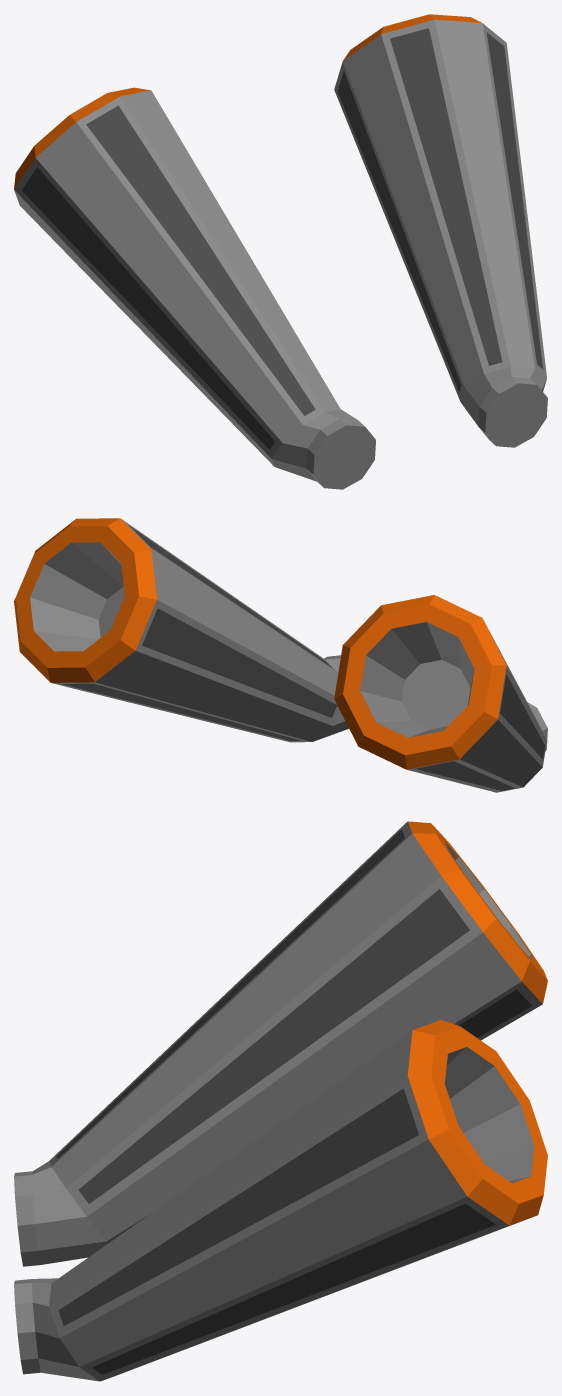
File: Catalysts3.fbx
3 views of the same model, one above another, from view 1: azimuth 30°, elevation 25°; view 2: azimuth 150°, elevation 25°; view 3: azimuth 270°, elevation 25° (orthographic). The views are drawn at different scales.
Visible parts, largest first — view 1: Catalysts3; view 2: Catalysts3; view 3: Catalysts3.
Boxes of the visible parts, x1,y1,x2,y2 form: Catalysts3: (14, 14, 547, 489); Catalysts3: (14, 518, 547, 792); Catalysts3: (14, 821, 547, 1381).
Size of the model in its own units: 528 by 313 by 393.
